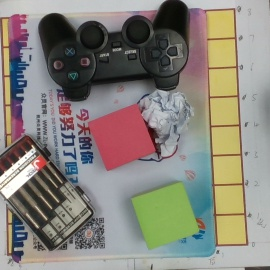remote: (38, 1, 192, 100)
